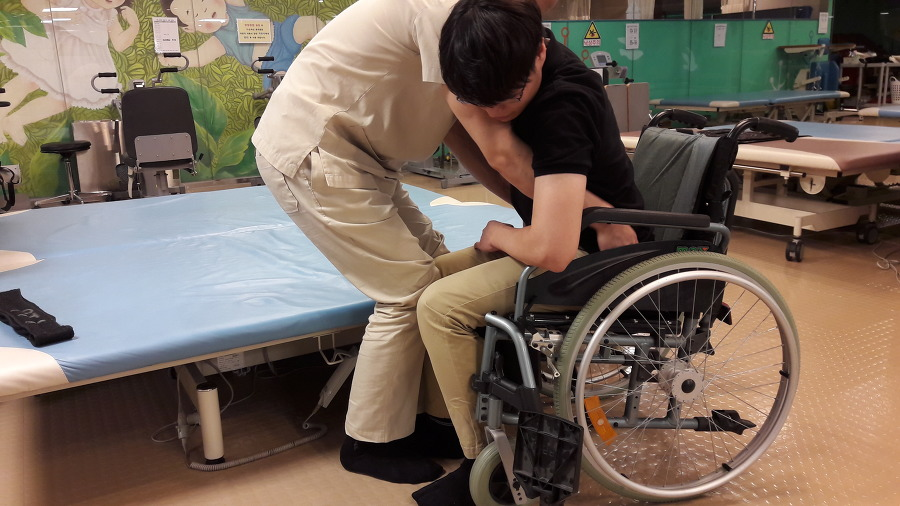wheelchair: (417, 4, 801, 499)
